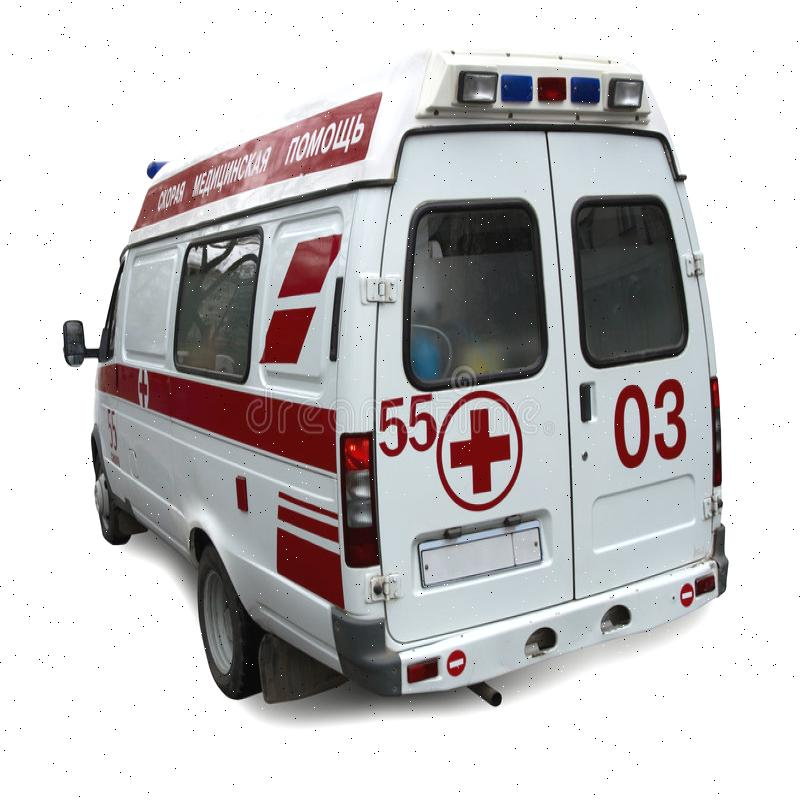ambulance: (81, 36, 742, 740)
